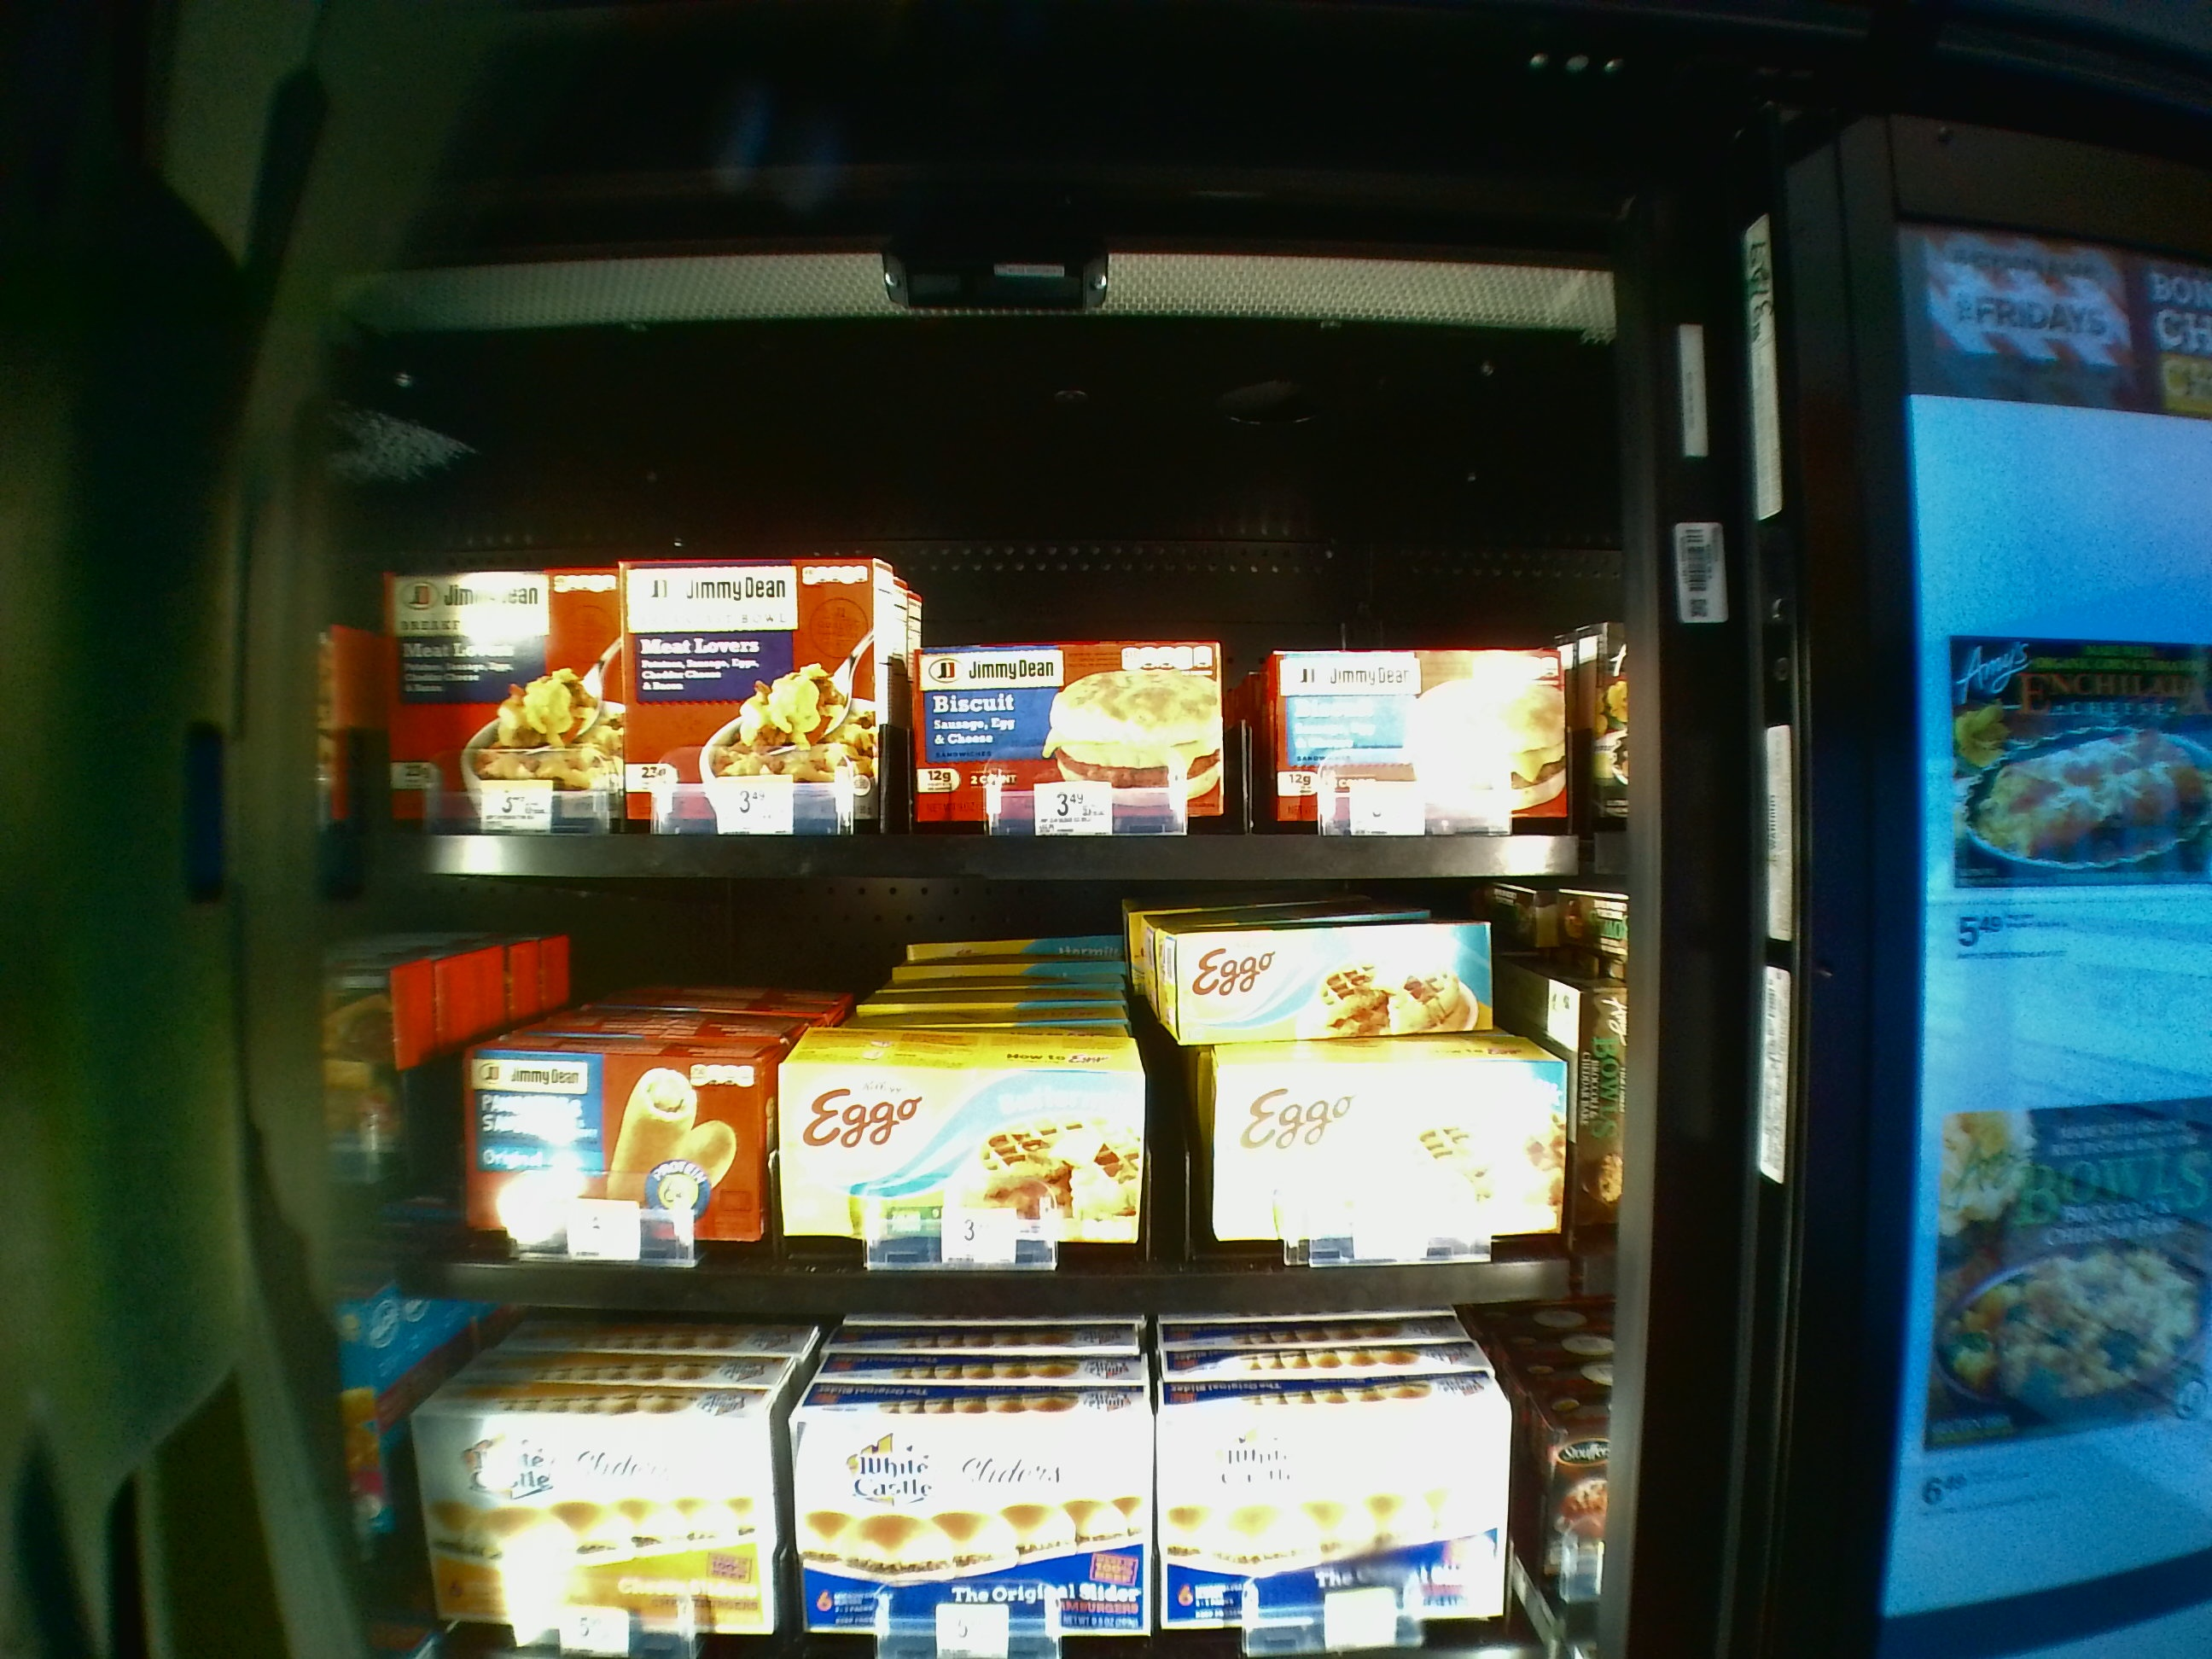shelf: (343, 342, 1606, 873), (336, 884, 1599, 1297)
